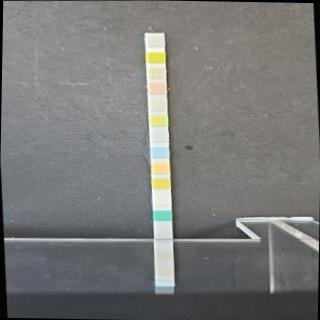mark: (146, 82, 168, 95), (146, 66, 166, 80), (152, 194, 172, 207), (151, 162, 170, 175), (144, 35, 164, 47), (145, 51, 165, 63), (148, 114, 168, 126), (150, 146, 170, 158), (148, 98, 167, 110), (151, 178, 170, 190), (152, 210, 172, 221), (150, 130, 168, 142)
